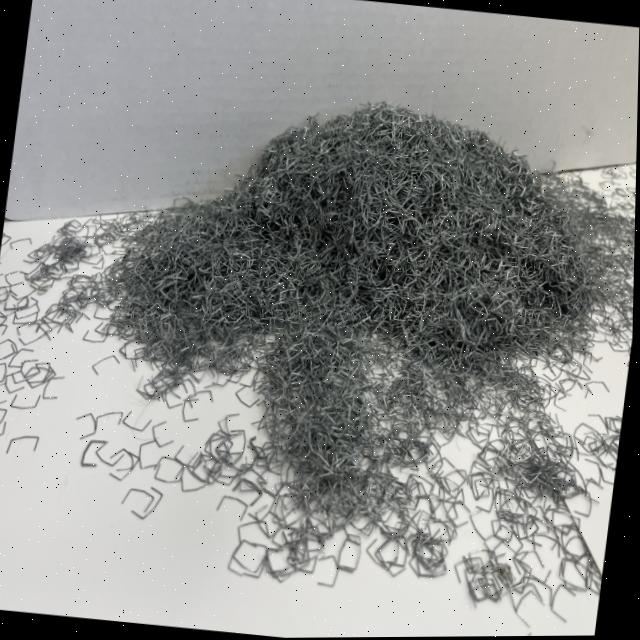staples: (72, 69, 627, 540)
